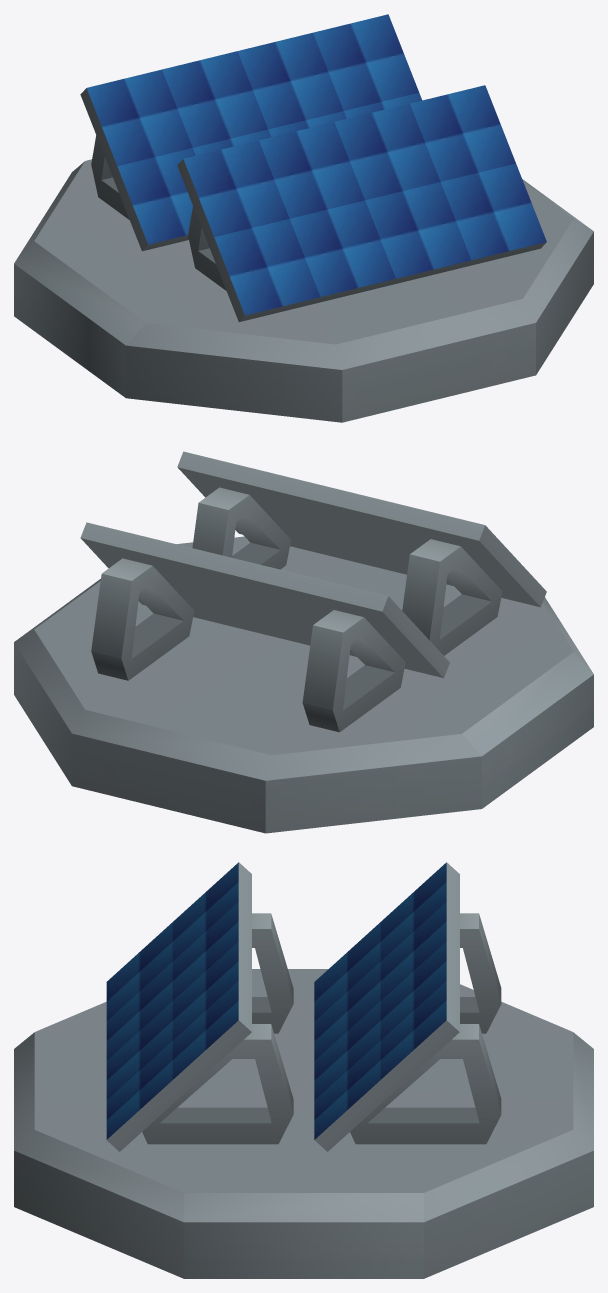
The model's file is kaykit-space-base-bits-roofmodule-solarpanels.glb.
The picture shows the model from 3 angles, top to bottom: view 1: azimuth 30°, elevation 25°; view 2: azimuth 150°, elevation 25°; view 3: azimuth 270°, elevation 25°; orthographic projection. The views are drawn at different scales.
Visible parts, largest first — view 1: roofmodule_solarpanels; view 2: roofmodule_solarpanels; view 3: roofmodule_solarpanels.
Part boxes in pixels (bbox=[...]): roofmodule_solarpanels: bbox=[14, 14, 593, 422]; roofmodule_solarpanels: bbox=[14, 451, 593, 833]; roofmodule_solarpanels: bbox=[14, 862, 593, 1278].
Size of the model in its own units: 1.4 by 0.571 by 1.4.
1 material, 1 textured.
